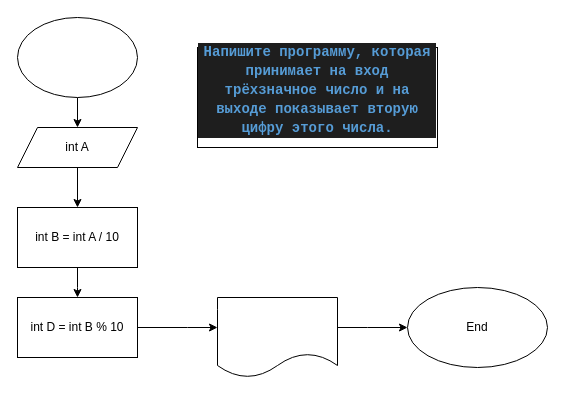
This 565x395 diagram has some shape labels left out. Each missing label, with the box of its shape:
int D: (216, 296, 338, 378)
Start: (16, 16, 138, 98)
